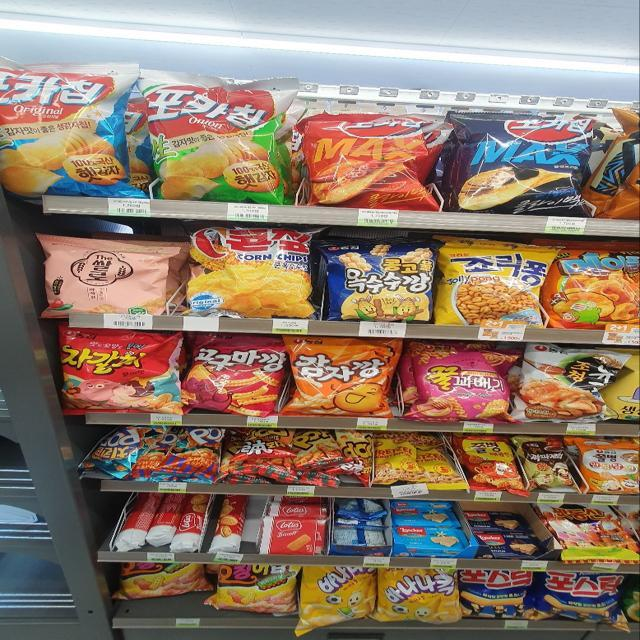product: (149, 75, 297, 202), (310, 106, 441, 214), (181, 226, 322, 320), (467, 114, 588, 217), (46, 238, 183, 318), (55, 330, 181, 414), (449, 245, 557, 328), (516, 349, 626, 426), (188, 326, 283, 414), (290, 342, 394, 417), (339, 248, 436, 324), (418, 347, 503, 422), (373, 556, 452, 625), (462, 559, 536, 624), (545, 572, 631, 626)
